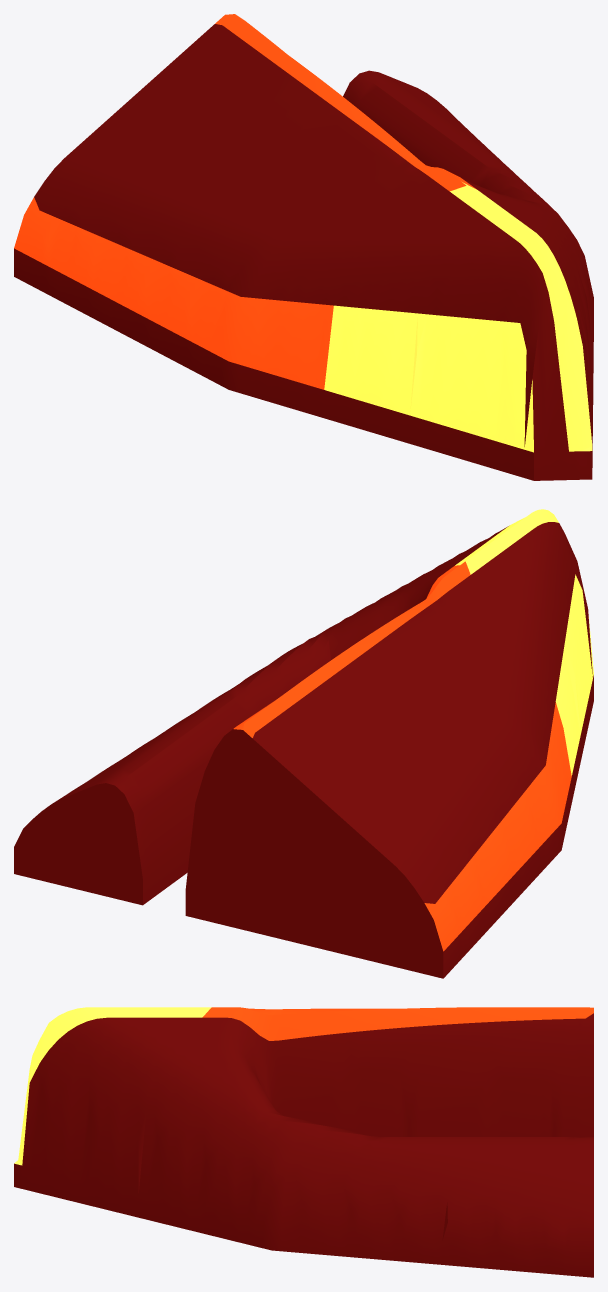
File: stargate_bottom.glb
3 views of the same model, one above another, from view 1: azimuth 30°, elevation 25°; view 2: azimuth 150°, elevation 25°; view 3: azimuth 270°, elevation 25° (orthographic). The views are drawn at different scales.
Parts seen in each view (by area): view 1: blade; view 2: blade; view 3: blade.
Part boxes in pixels (left/top/right/bottom): blade: left=14, top=14, right=593, bottom=480; blade: left=14, top=509, right=593, bottom=978; blade: left=14, top=1007, right=593, bottom=1277.
Bounding box in the file's own units: 20 × 9 × 27.
